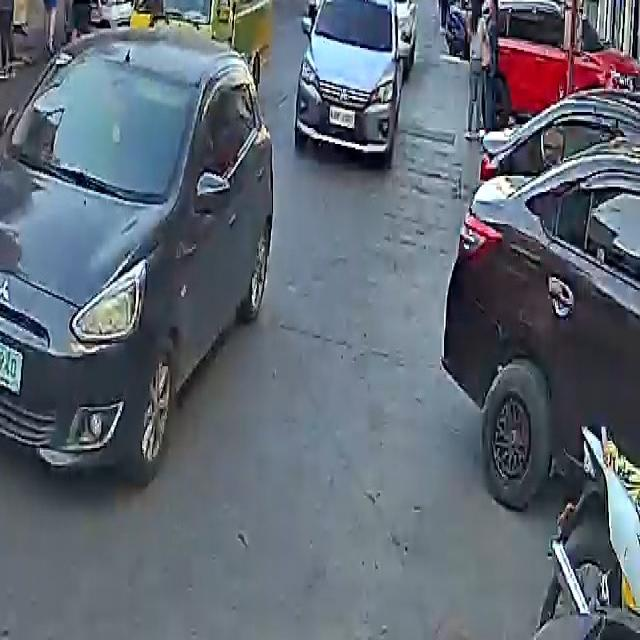car: (0, 28, 282, 473), (444, 106, 640, 529), (489, 0, 639, 124), (299, 0, 415, 160)
